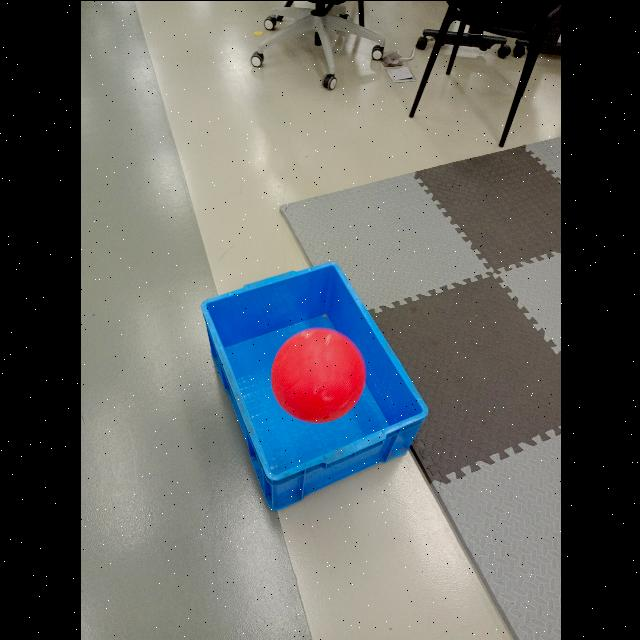R: (272, 327, 364, 423)
